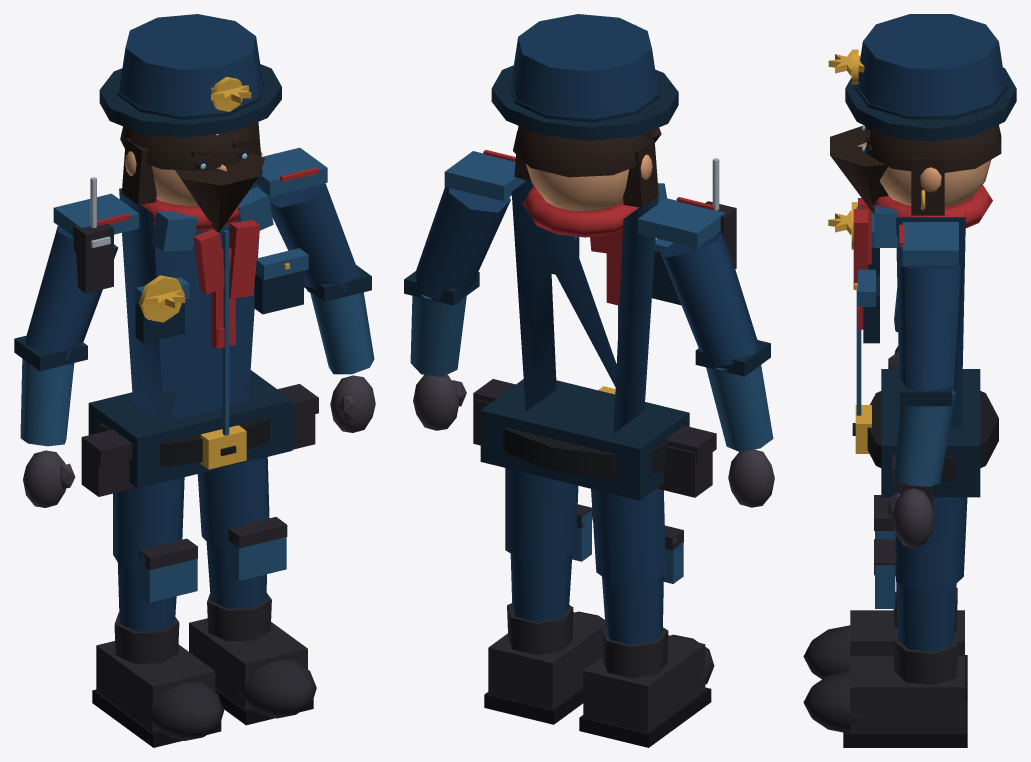
The model's file is asset.glb.
3 renders of one model, left to right at view 1: azimuth 30°, elevation 25°; view 2: azimuth 150°, elevation 25°; view 3: azimuth 270°, elevation 25°, orthographic. The views are drawn at different scales.
Visible parts, largest first — view 1: Officer_Torso, Hat_Crown, Hips, Right_Upper_Arm, Left_Upper_Arm, Left_Boot, Left_Thigh, Right_Thigh, Right_Boot, Hat_Brim, Left_Forearm, Right_Forearm (+41 smaller); view 2: Officer_Torso, Hat_Crown, Hips, Left_Upper_Arm, Left_Boot, Right_Upper_Arm, Right_Boot, Left_Thigh, Right_Thigh, Hat_Brim, Hair_Cap, Left_Forearm (+25 smaller); view 3: Hat_Crown, Right_Upper_Arm, Right_Boot, Hips, Right_Thigh, Hat_Brim, Right_Forearm, Hair_Cap, Right_Shin, Low_Poly_Beard, Right_Epaulette, Left_Boot (+23 smaller).
Part boxes in pixels (x1=…): Officer_Torso: x1=119, y1=182, x2=262, y2=422; Hat_Crown: x1=119, y1=14, x2=262, y2=115; Hips: x1=88, y1=370, x2=292, y2=488; Right_Upper_Arm: x1=268, y1=183, x2=359, y2=293; Left_Upper_Arm: x1=25, y1=226, x2=118, y2=360; Left_Boot: x1=96, y1=641, x2=215, y2=731; Left_Thigh: x1=113, y1=477, x2=184, y2=569; Right_Thigh: x1=197, y1=457, x2=269, y2=549; Right_Boot: x1=189, y1=618, x2=307, y2=709; Hat_Brim: x1=99, y1=64, x2=281, y2=137; Left_Forearm: x1=20, y1=358, x2=74, y2=446; Right_Forearm: x1=310, y1=292, x2=374, y2=374; Officer_Torso: x1=511, y1=181, x2=658, y2=432; Hat_Crown: x1=511, y1=14, x2=658, y2=118; Hips: x1=480, y1=379, x2=689, y2=500; Left_Upper_Arm: x1=660, y1=233, x2=758, y2=368; Left_Boot: x1=583, y1=635, x2=705, y2=732; Right_Upper_Arm: x1=415, y1=187, x2=510, y2=303; Right_Boot: x1=488, y1=612, x2=605, y2=709; Left_Thigh: x1=591, y1=488, x2=666, y2=583; Right_Thigh: x1=505, y1=468, x2=578, y2=562; Hat_Brim: x1=491, y1=65, x2=678, y2=140; Hair_Cap: x1=513, y1=126, x2=653, y2=177; Left_Forearm: x1=706, y1=365, x2=773, y2=451; Hat_Crown: x1=856, y1=14, x2=1005, y2=115; Right_Upper_Arm: x1=897, y1=265, x2=962, y2=391; Right_Boot: x1=850, y1=656, x2=964, y2=733; Hips: x1=881, y1=369, x2=980, y2=497; Right_Thigh: x1=895, y1=497, x2=967, y2=590; Hat_Brim: x1=845, y1=67, x2=1016, y2=141; Right_Forearm: x1=894, y1=390, x2=955, y2=486; Hair_Cap: x1=866, y1=125, x2=1001, y2=172; Right_Shin: x1=896, y1=580, x2=956, y2=651; Low_Poly_Beard: x1=830, y1=125, x2=888, y2=214; Right_Epaulette: x1=902, y1=222, x2=958, y2=265; Left_Boot: x1=850, y1=610, x2=964, y2=655.
Size of the model in its own units: 2.11 by 3.79 by 1.1.
